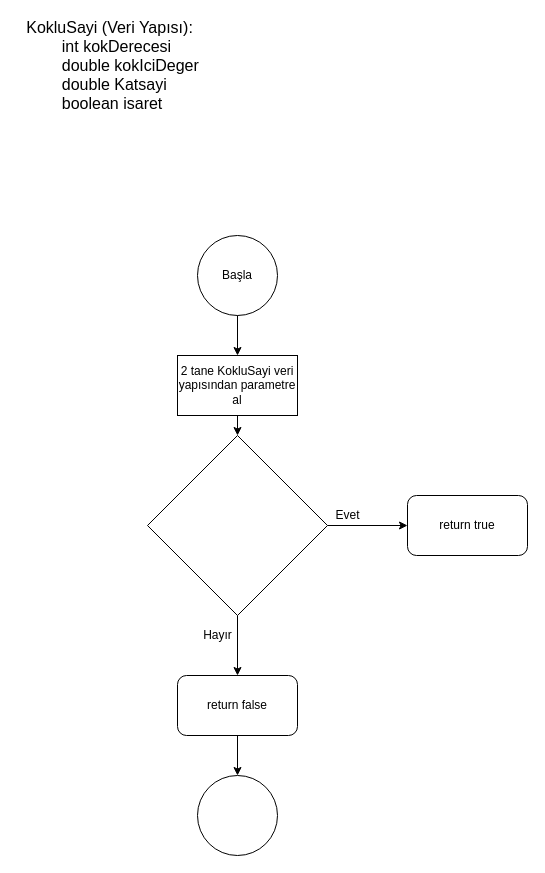
Some shapes in this 545 by 873 pixel diagram are drawn without their labels. The shapes that lost their labels are listed below. From the top down, each one's centre as x and y in pixels, then its label:
At [237,525]: "Alınan 2 köklü sayının kök derecelerini eşit mi değil mi diye karşılaştır".
At [237,815]: "Bitir".
